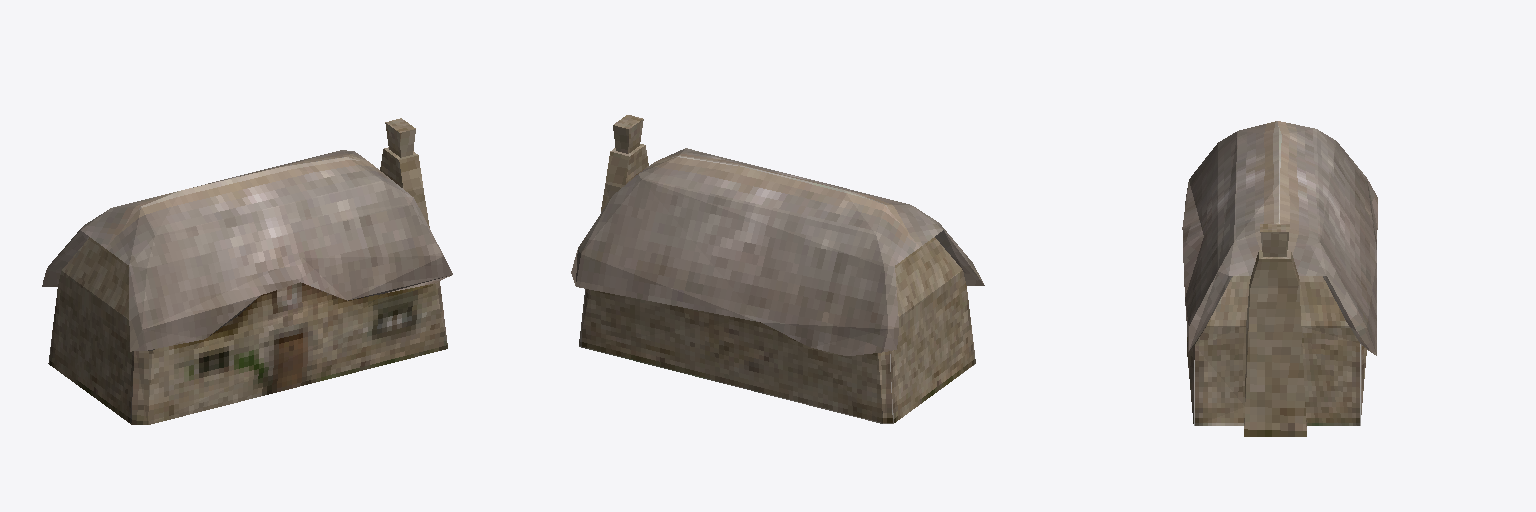
3 renders of one model, left to right at view 1: azimuth 30°, elevation 25°; view 2: azimuth 150°, elevation 25°; view 3: azimuth 270°, elevation 25°, orthographic.
Visible parts, largest first — view 1: _; view 2: _; view 3: _.
Part boxes in pixels (x1,y1,x2,y2): _: (42,118,452,424); _: (571,115,984,423); _: (1182,121,1377,436).
Size of the model in its own units: 527 by 287 by 259.
1 materials, 1 textured.